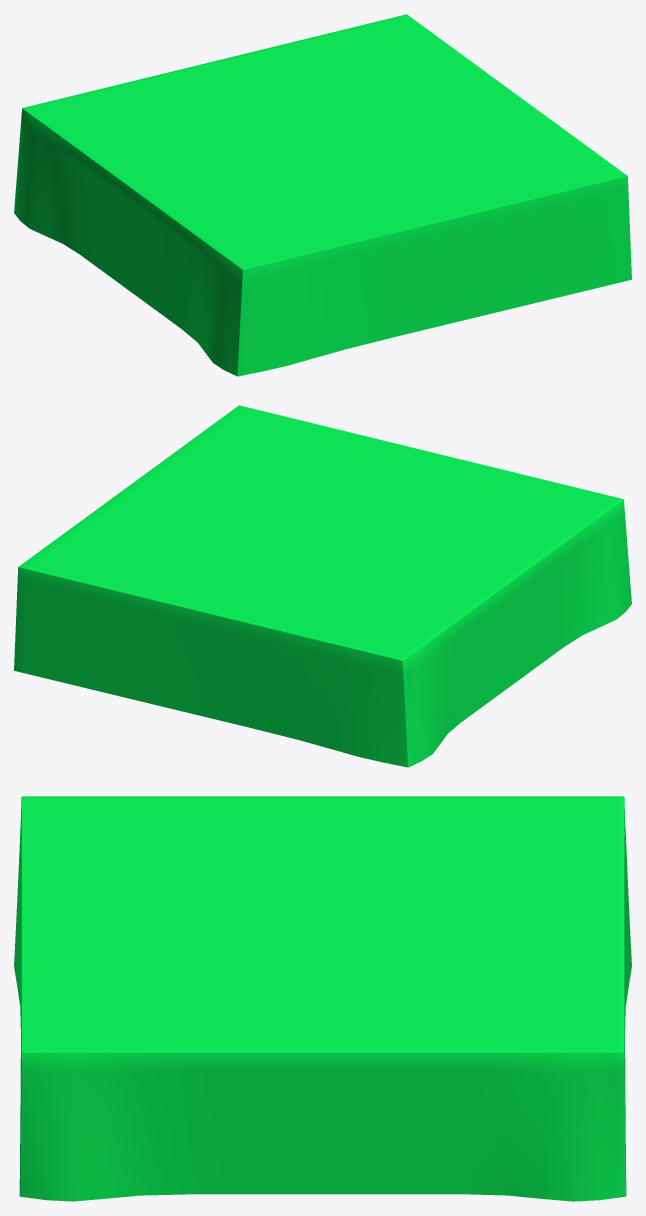
The model's file is Tablecloth_01.fbx.
3 renders of one model, top to bottom at view 1: azimuth 30°, elevation 25°; view 2: azimuth 150°, elevation 25°; view 3: azimuth 270°, elevation 25°, orthographic. The views are drawn at different scales.
Visible parts, largest first — view 1: Tablecloth_01; view 2: Tablecloth_01; view 3: Tablecloth_01.
Part boxes in pixels (bbox=[...]): Tablecloth_01: bbox=[14, 14, 631, 376]; Tablecloth_01: bbox=[14, 405, 631, 767]; Tablecloth_01: bbox=[14, 796, 631, 1201].
Bounding box in the file's own units: 1246 × 305 × 1202.
